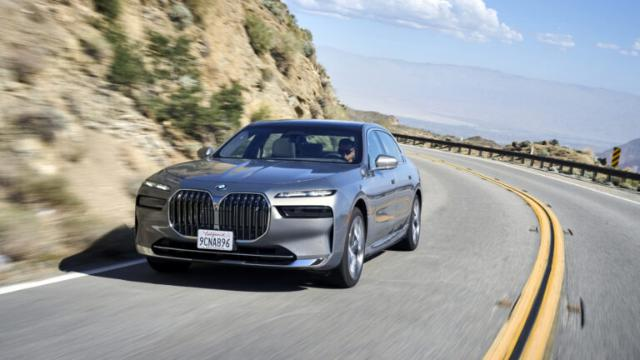bmw: (133, 120, 423, 288)
